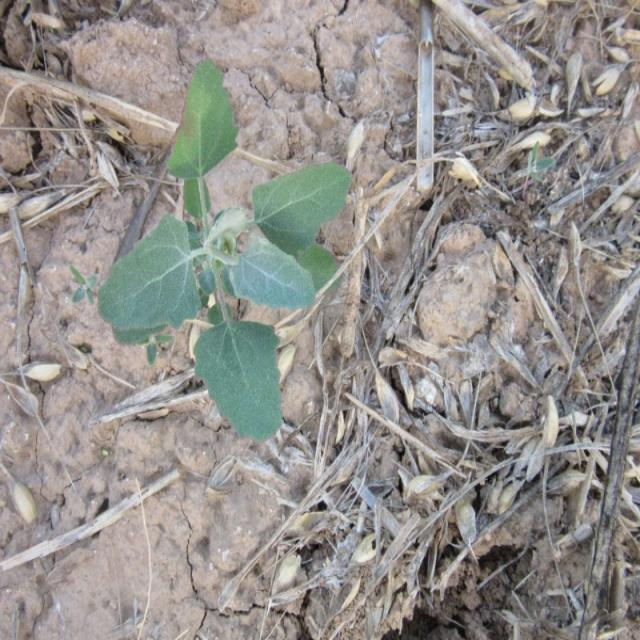ca: (103, 63, 352, 440)
